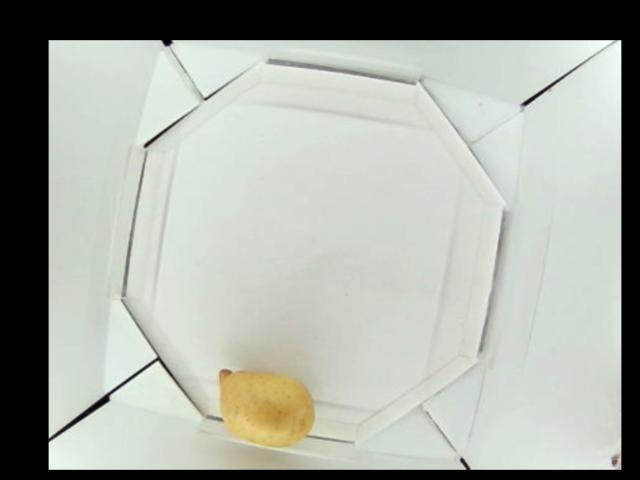Potato: (215, 365, 315, 453)
